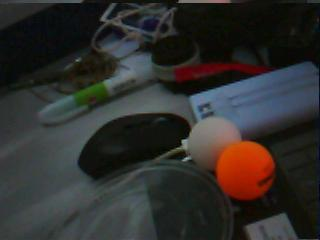oball: (215, 141, 275, 203)
